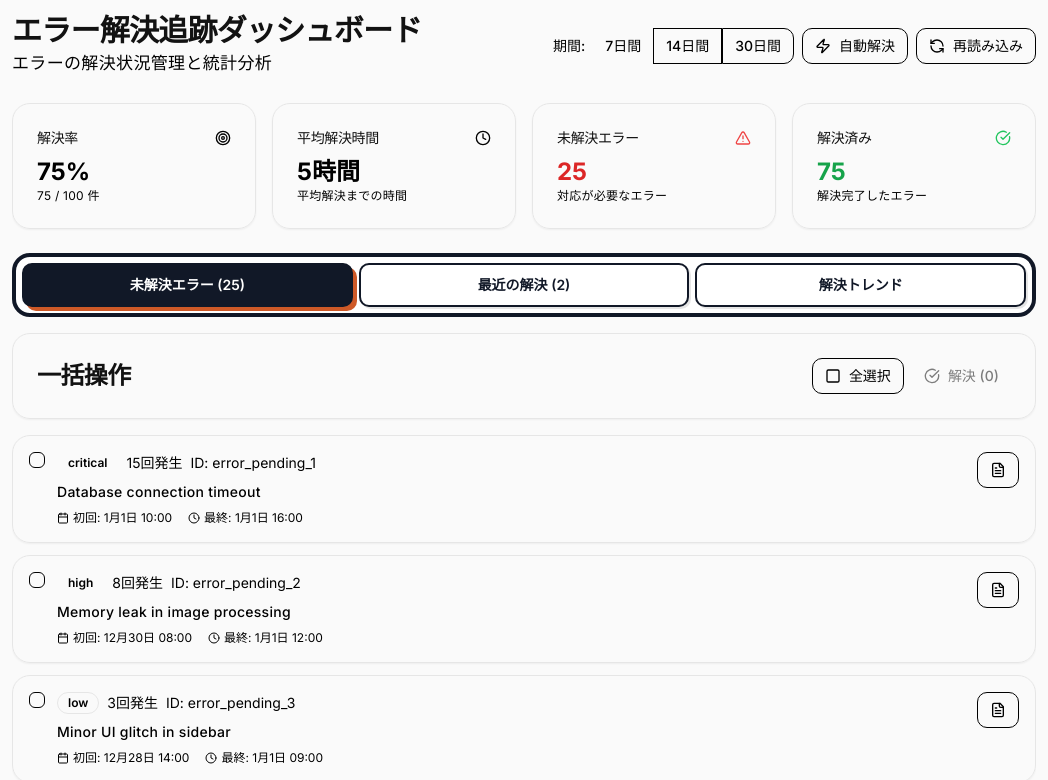
Test: ErrorResolutionDashboard › エラー選択機能テスト › 全選択機能が機能すること
The width and height of the screenshot is (1048, 780).
Click the button labelled "全選択".
click(858, 376)  # box [812, 358, 904, 394]
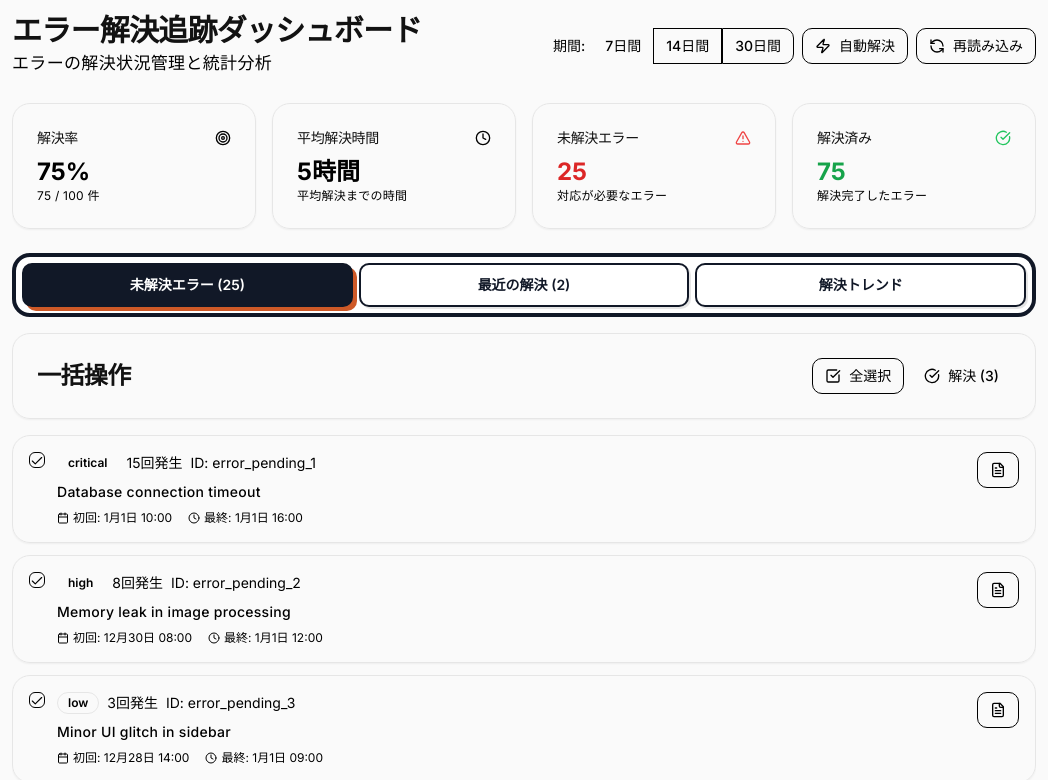
Now the button with aria-label "全選択を解除" is shown, box [812, 358, 904, 394]
